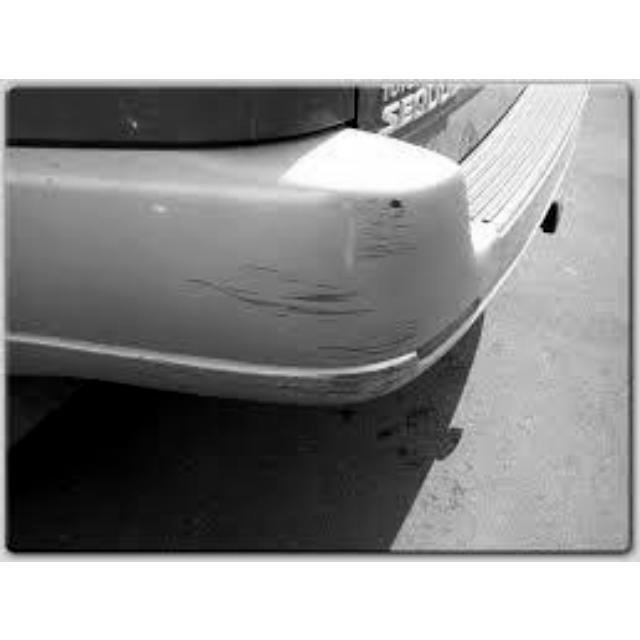rear-bumper-dent: (13, 128, 578, 408)
